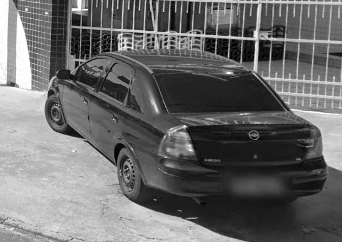car: (45, 52, 327, 206)
